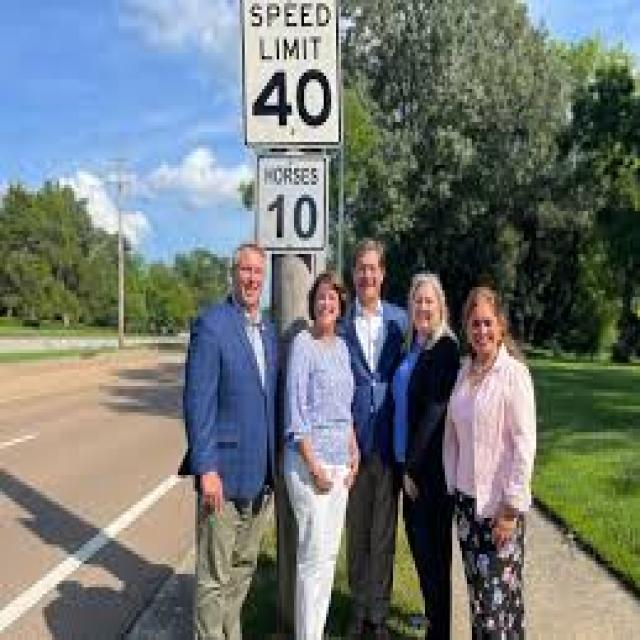speedLimit40: (241, 5, 342, 150)
